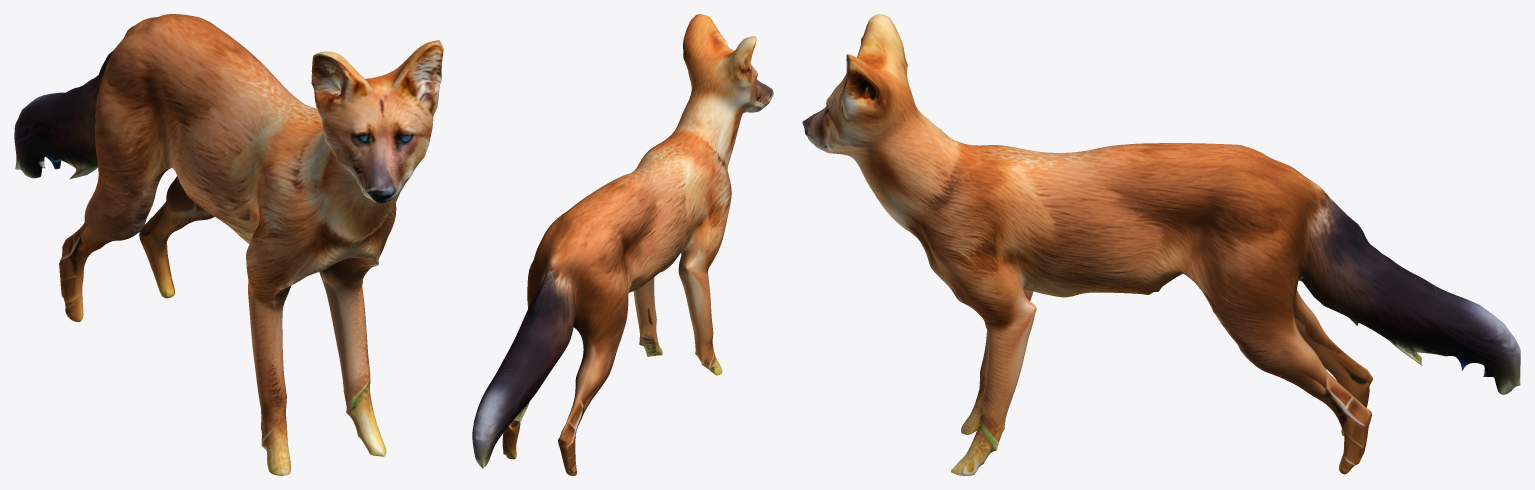
File: Anjing Ajag.fbx
3 renders of one model, left to right at view 1: azimuth 30°, elevation 25°; view 2: azimuth 150°, elevation 25°; view 3: azimuth 270°, elevation 25°, orthographic. The views are drawn at different scales.
Visible parts, largest first — view 1: ajag; view 2: ajag; view 3: ajag.
Part boxes in pixels (x1,y1,x2,y2): ajag: [14, 14, 443, 475]; ajag: [472, 14, 773, 475]; ajag: [802, 14, 1520, 475].
Size of the model in its own units: 36.23 by 121 by 190.
